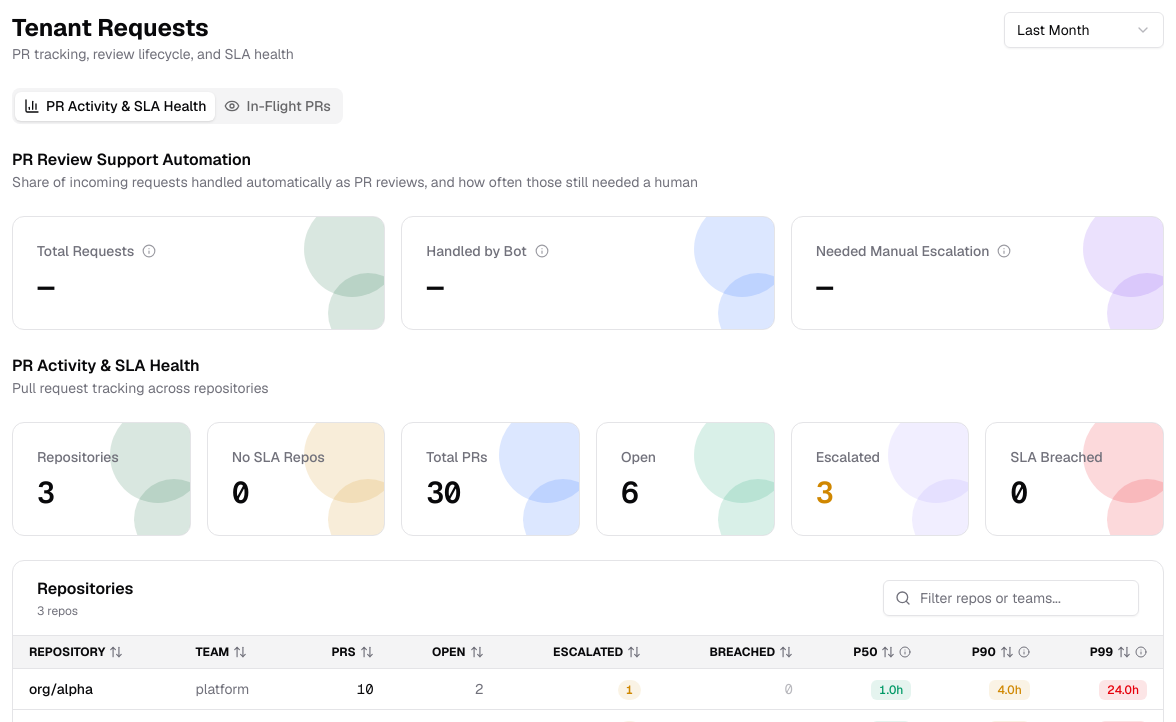
Test: TenantRequestsPage › Search › should show filtered count
Type "alpha" into the field with placeholder "Filter repos or teams..." at (1011, 598), box left=883, top=580, right=1139, bottom=616
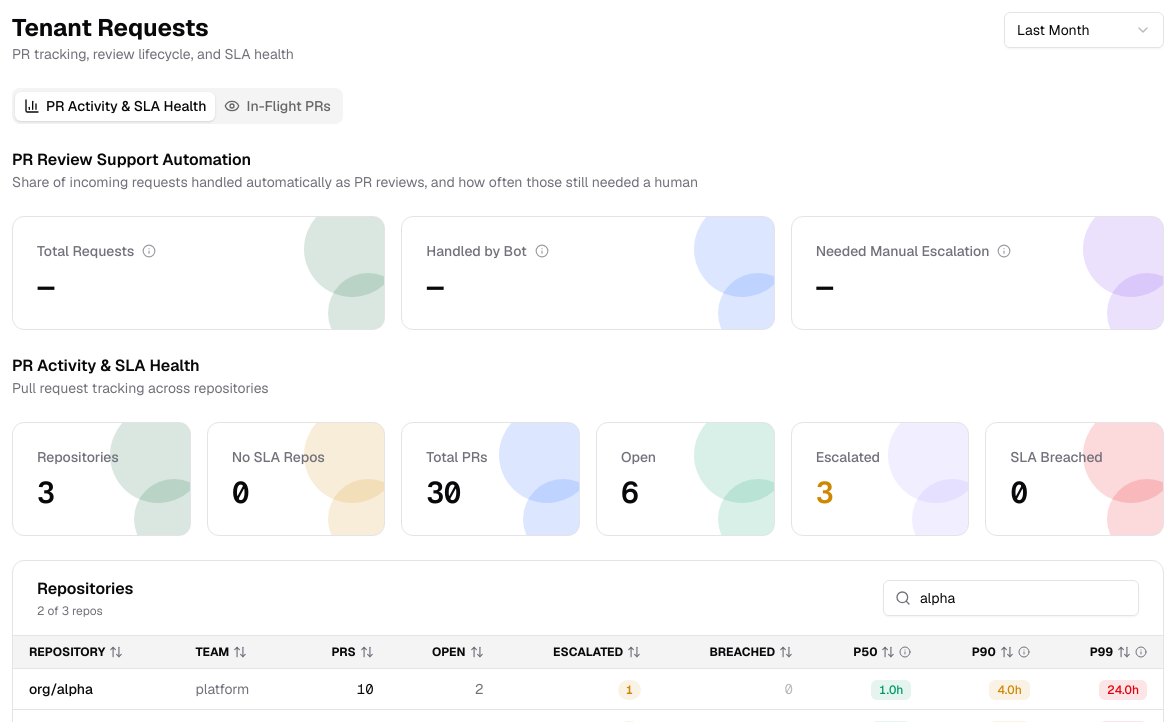
Result: the text "2 of 3 repos" is shown at left=37, top=603, right=103, bottom=619
